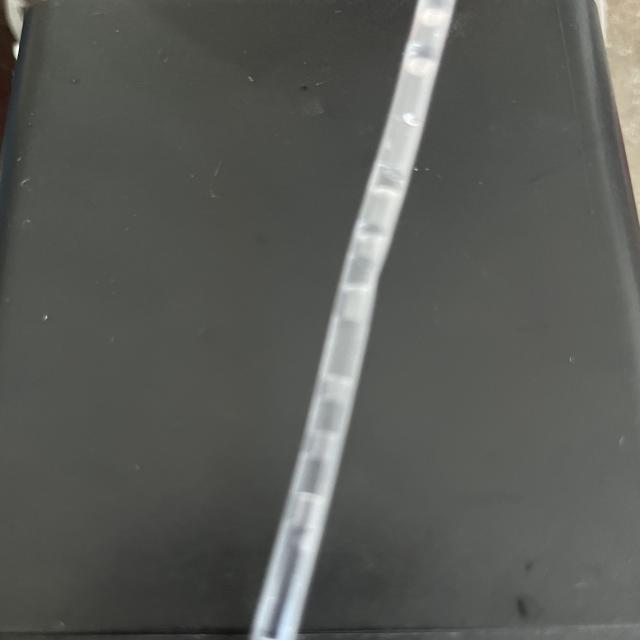bubble: (345, 170, 420, 235), (304, 359, 389, 415), (335, 276, 386, 337), (268, 487, 339, 527), (396, 38, 451, 84), (412, 1, 484, 32), (307, 428, 353, 469), (285, 534, 335, 559), (404, 109, 422, 139)
